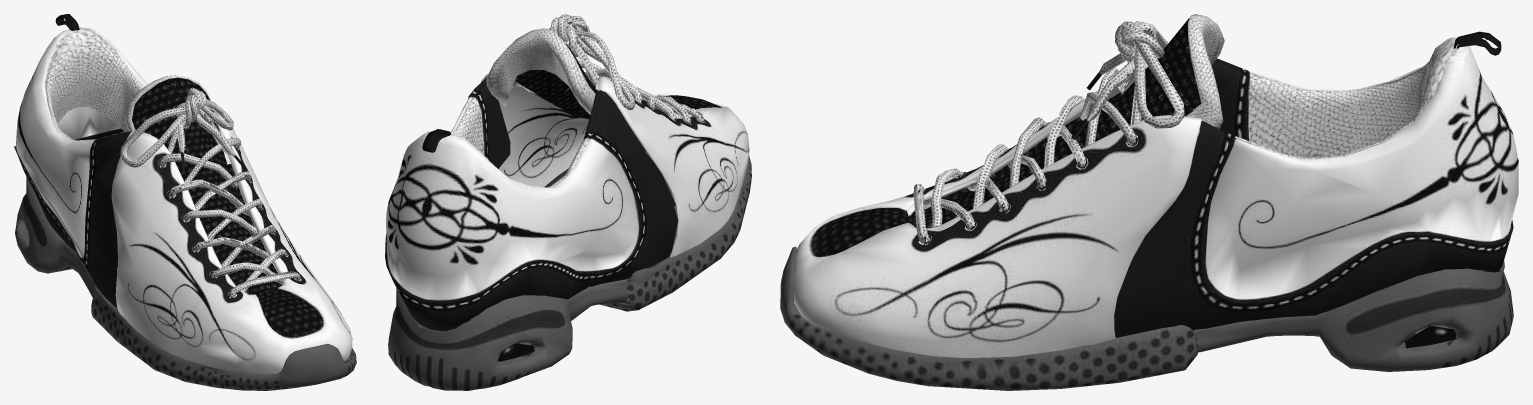
File: sneaker-low.FBX
3 renders of one model, left to right at view 1: azimuth 30°, elevation 25°; view 2: azimuth 150°, elevation 25°; view 3: azimuth 270°, elevation 25°, orthographic. The views are drawn at different scales.
Visible parts, largest first — view 1: sneaker_low; view 2: sneaker_low; view 3: sneaker_low.
Boxes of the visible parts, x1,y1,x2,y2 form: sneaker_low: (14, 14, 356, 390); sneaker_low: (385, 14, 751, 390); sneaker_low: (780, 14, 1518, 390).
Size of the model in its own units: 9.18 by 12.29 by 25.16.
